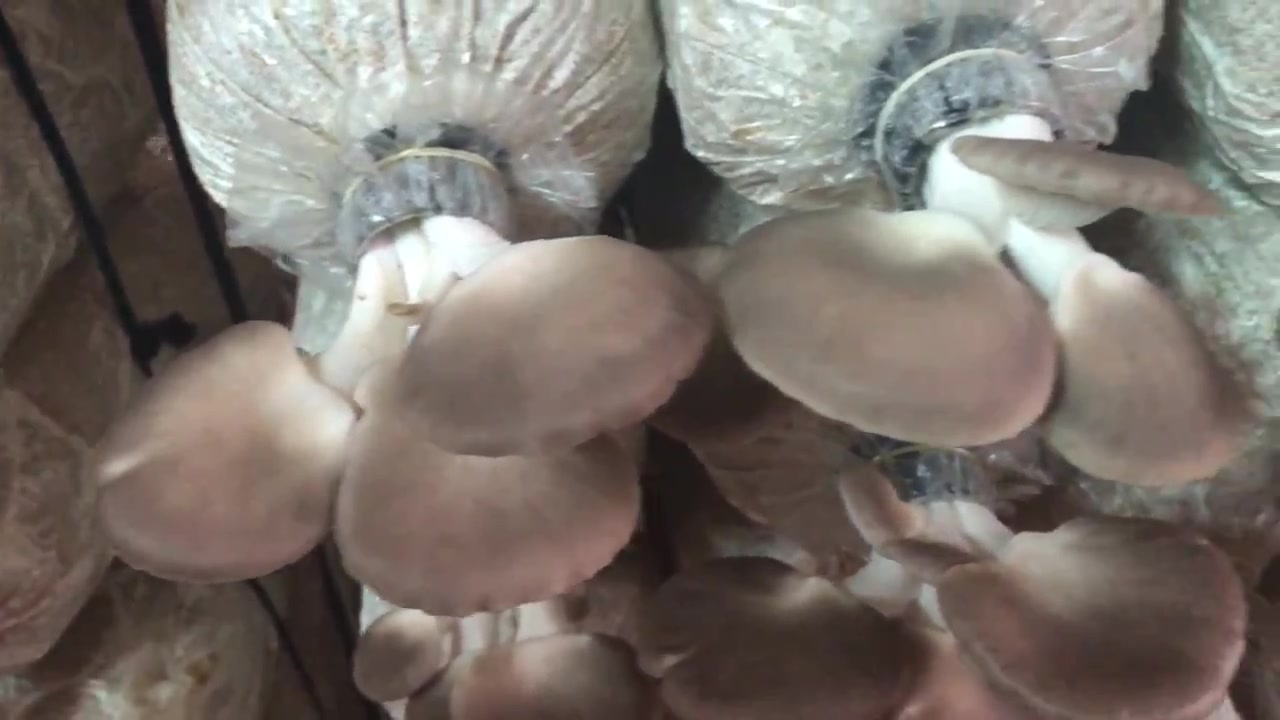nam: (95, 149, 711, 616), (721, 56, 1235, 484), (639, 453, 1248, 718), (356, 592, 643, 720)
